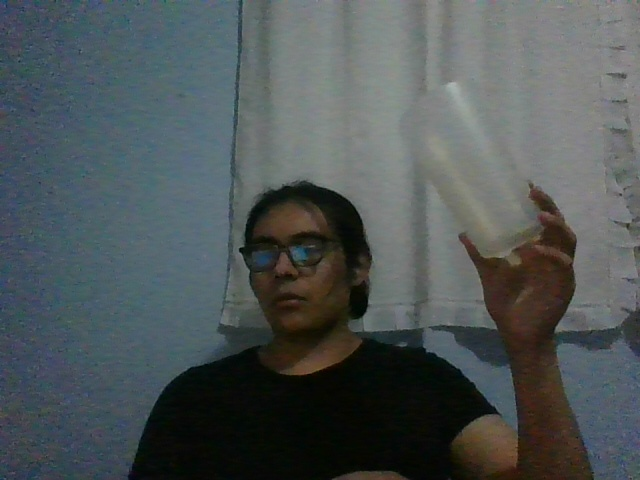vaso: (399, 79, 545, 259)
